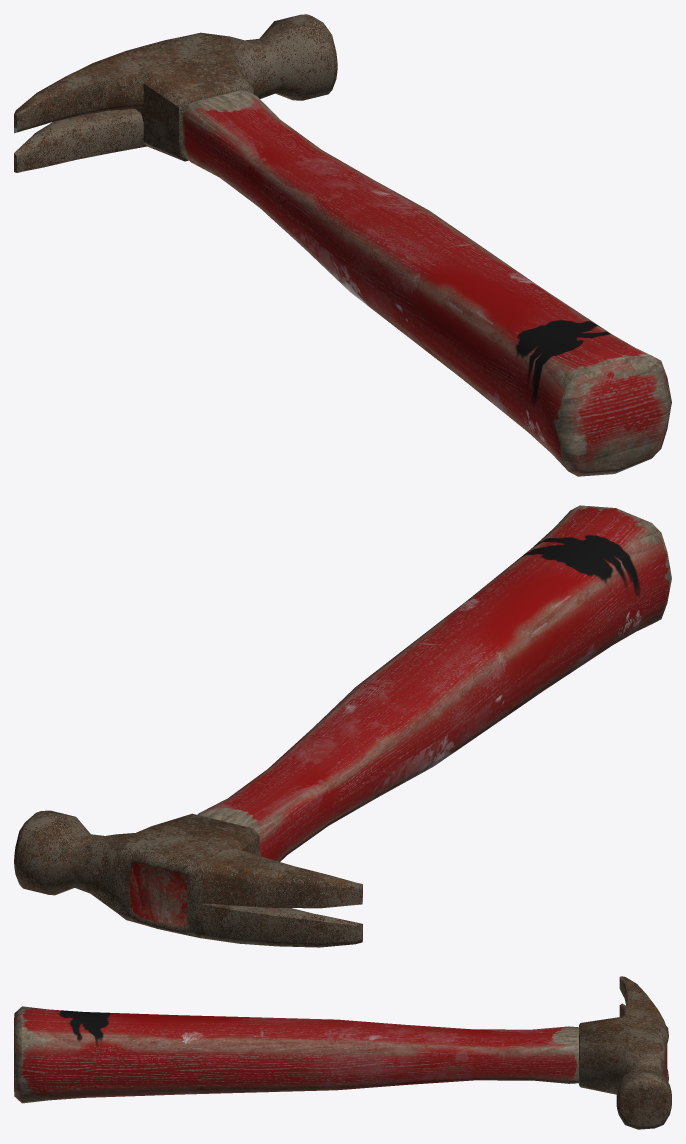
File: hammer.FBX
3 renders of one model, top to bottom at view 1: azimuth 30°, elevation 25°; view 2: azimuth 150°, elevation 25°; view 3: azimuth 270°, elevation 25°, orthographic. The views are drawn at different scales.
Visible parts, largest first — view 1: Box002; view 2: Box002; view 3: Box002.
Boxes of the visible parts, box(x1,y1,x2,y2) form: Box002: box(14, 14, 671, 476); Box002: box(14, 505, 671, 947); Box002: box(14, 976, 671, 1129).
Size of the model in its own units: 9.24 by 3.16 by 23.33.
Materials: 1 (1 with a texture image).
